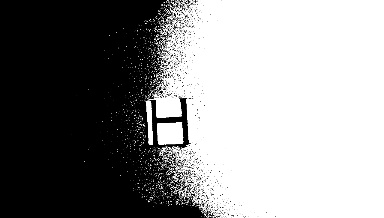H: (144, 96, 192, 145)
